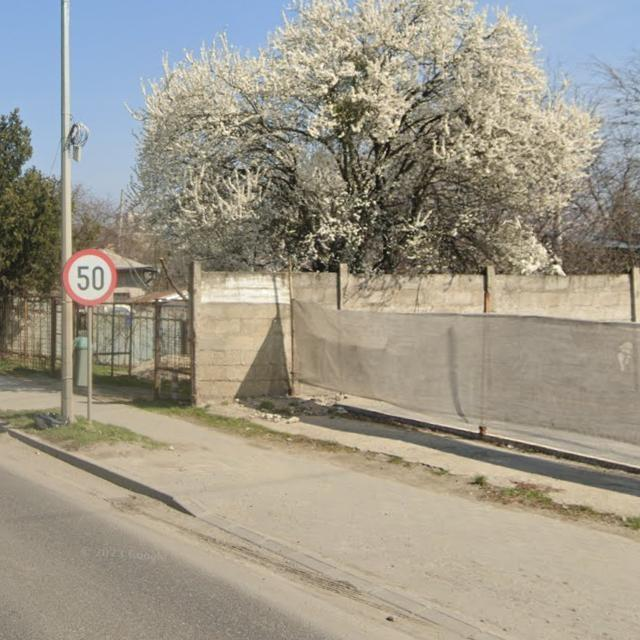forb_speed_over_50: (63, 248, 117, 308)
